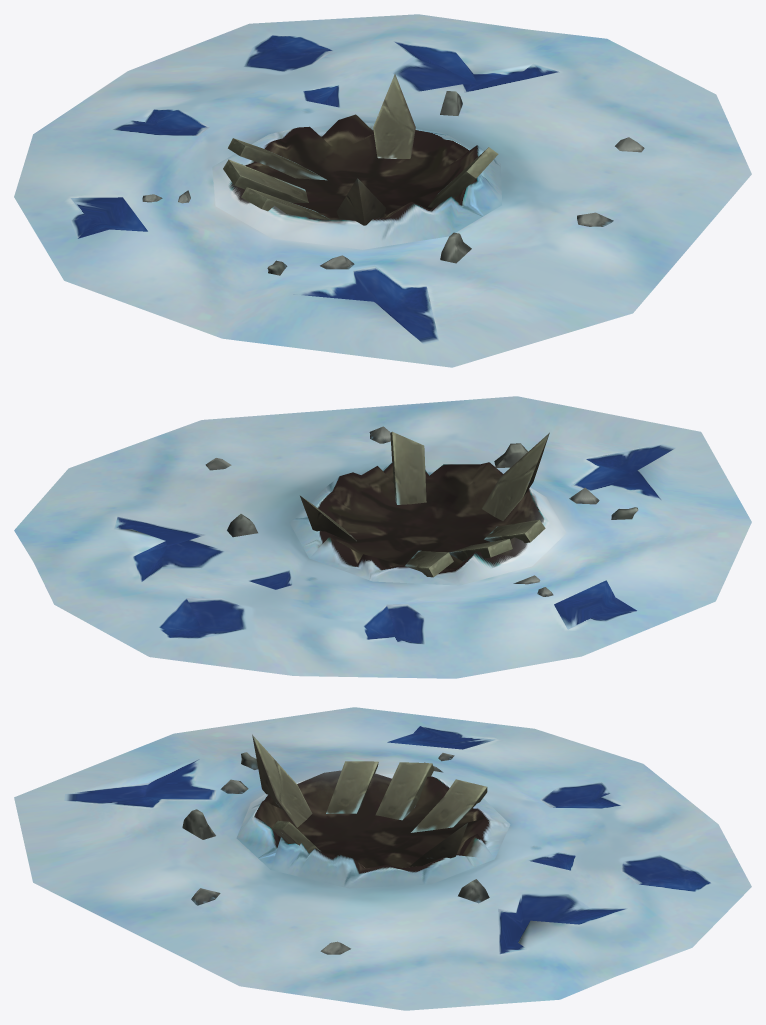
Rendered from BingKeng02.FBX.
3 views of the same model, one above another, from view 1: azimuth 30°, elevation 25°; view 2: azimuth 150°, elevation 25°; view 3: azimuth 270°, elevation 25° (orthographic). The views are drawn at different scales.
Parts seen in each view (by area): view 1: BingKeng02; view 2: BingKeng02; view 3: BingKeng02.
Part boxes in pixels (left/top/right/bottom): BingKeng02: left=14, top=14, right=751, bottom=367; BingKeng02: left=14, top=396, right=751, bottom=678; BingKeng02: left=14, top=707, right=751, bottom=1010.
Size of the model in its own units: 371 by 62.89 by 381.
